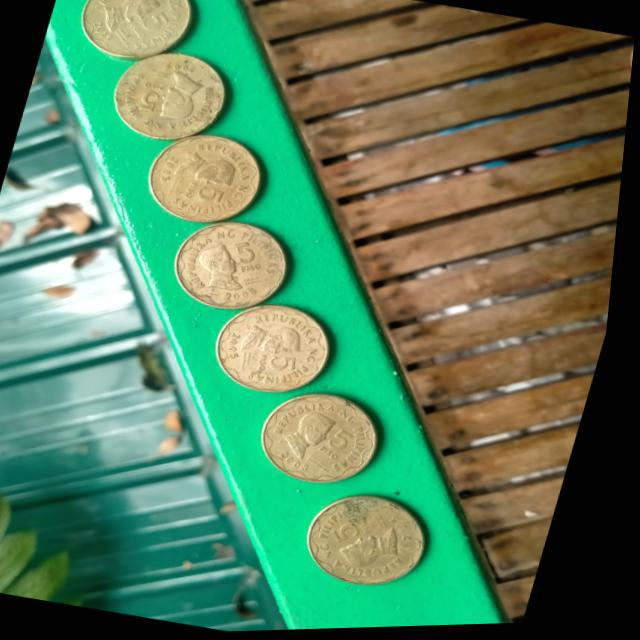5_Old_Front: (316, 499, 432, 589), (271, 395, 385, 485), (192, 230, 291, 314)
